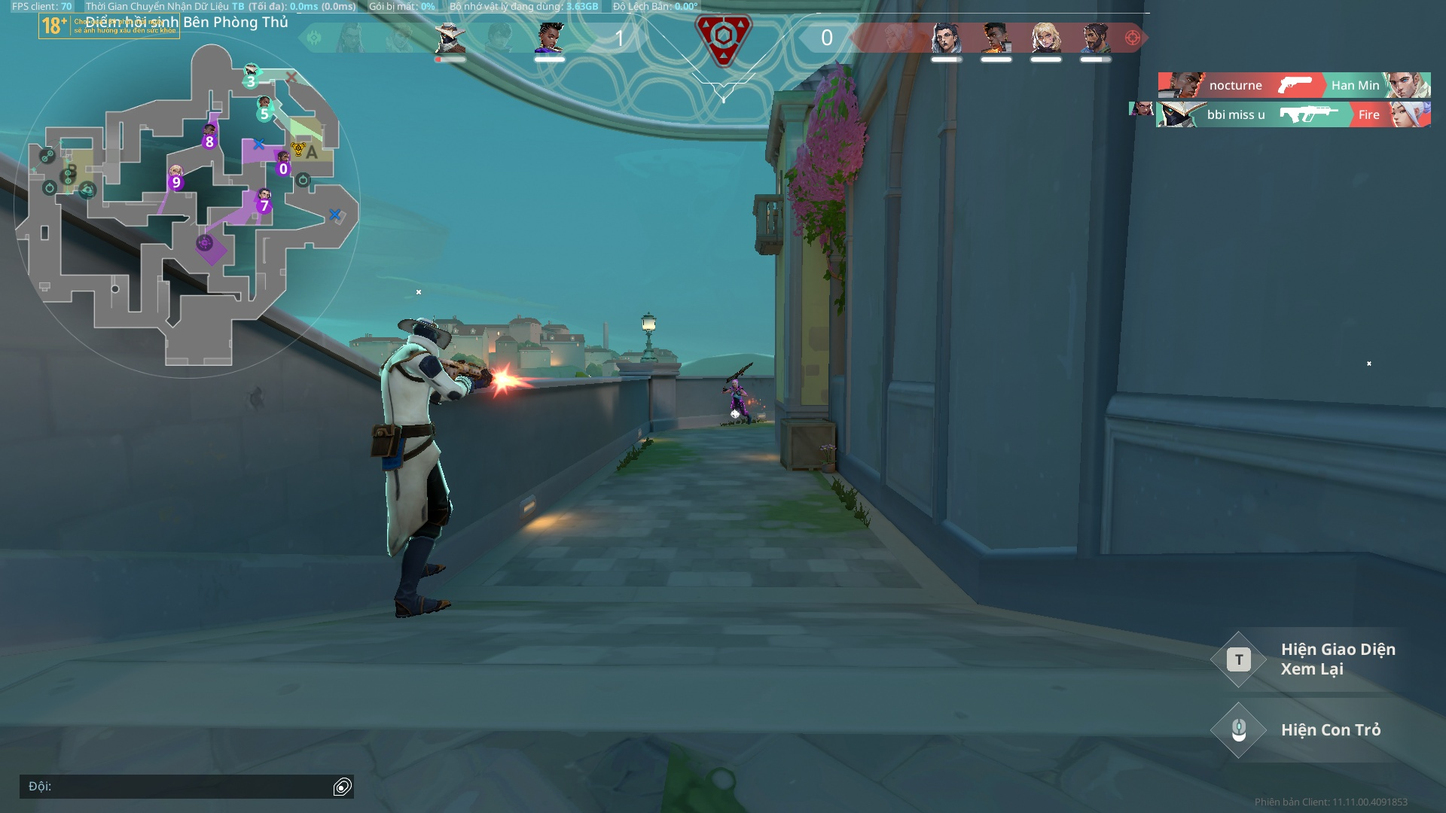body: (730, 385, 745, 402)
head: (731, 379, 738, 388)
